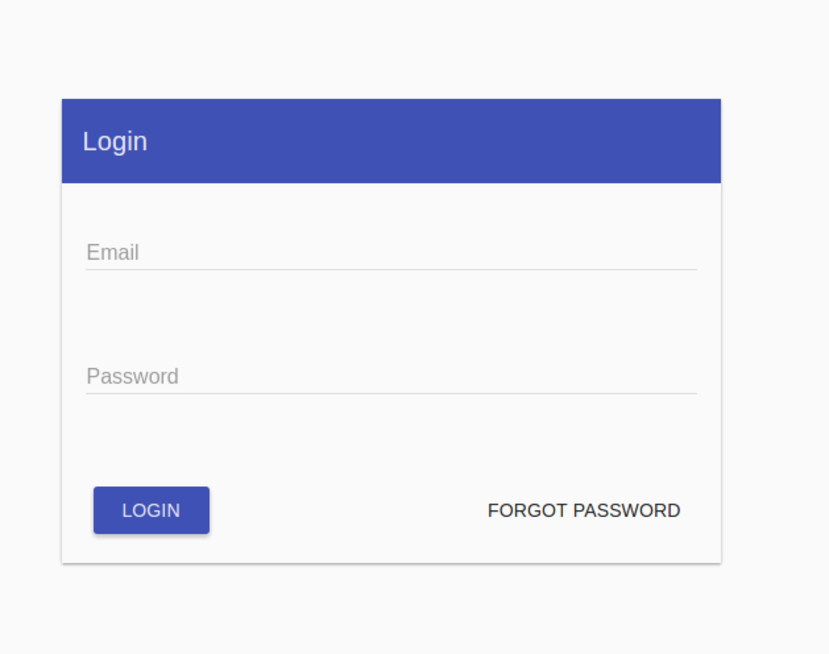button: (91, 484, 214, 537)
field_line: (80, 359, 696, 398), (83, 237, 699, 273)
